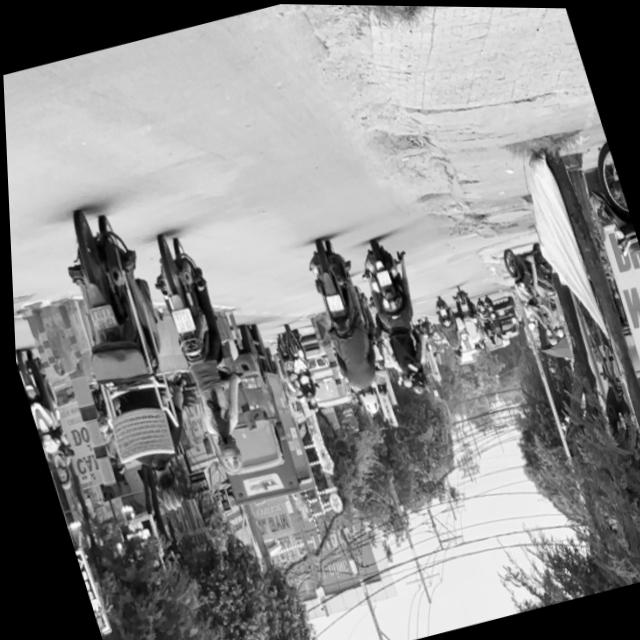helmet: (143, 463, 181, 514), (210, 433, 242, 475), (356, 387, 378, 415)
licenseplate: (40, 200, 214, 531), (137, 228, 262, 480), (295, 232, 394, 422)
nohelmet: (86, 304, 114, 334), (168, 306, 193, 334), (322, 293, 341, 312)
